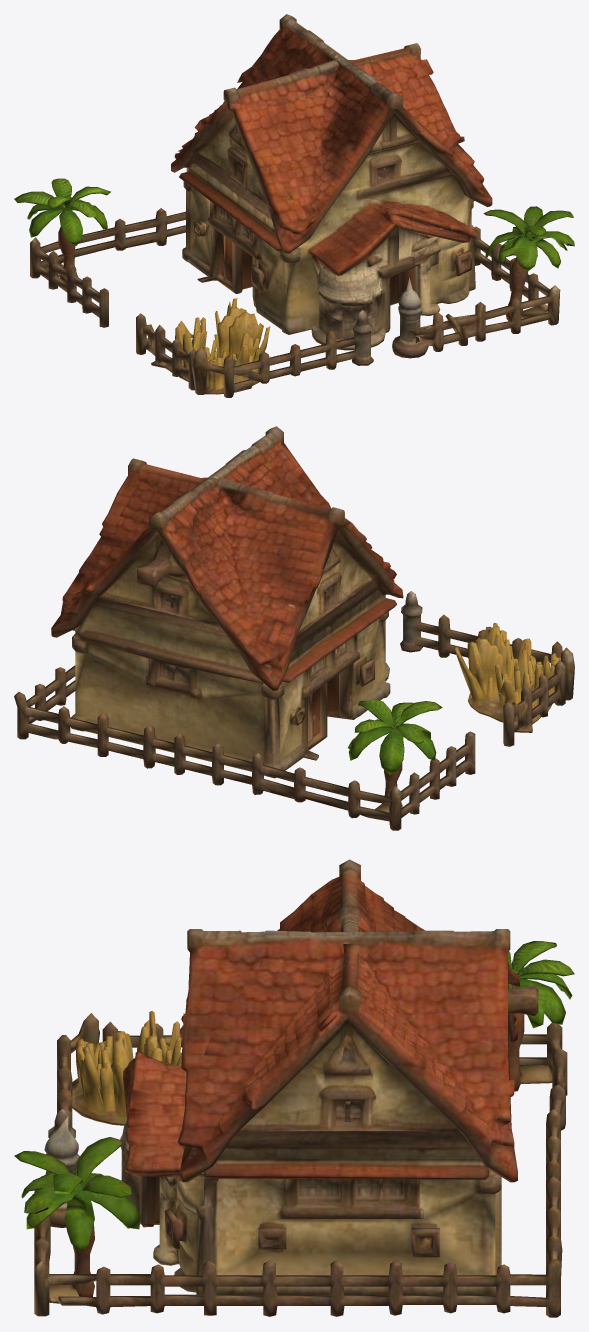
Rendered from granja_tripo_2.glb.
3 renders of one model, top to bottom at view 1: azimuth 30°, elevation 25°; view 2: azimuth 150°, elevation 25°; view 3: azimuth 270°, elevation 25°, orthographic. The views are drawn at different scales.
Parts seen in each view (by area): view 1: tripo_node_a6f60d0a-1b36-43b1-b33c-19b7cf65d22f; view 2: tripo_node_a6f60d0a-1b36-43b1-b33c-19b7cf65d22f; view 3: tripo_node_a6f60d0a-1b36-43b1-b33c-19b7cf65d22f.
Part boxes in pixels (bbox=[...]): tripo_node_a6f60d0a-1b36-43b1-b33c-19b7cf65d22f: bbox=[14, 14, 574, 397]; tripo_node_a6f60d0a-1b36-43b1-b33c-19b7cf65d22f: bbox=[14, 426, 574, 830]; tripo_node_a6f60d0a-1b36-43b1-b33c-19b7cf65d22f: bbox=[14, 859, 574, 1317].
Size of the model in its own units: 0.98 by 0.5274 by 0.8496.
Materials: 1 (1 with a texture image).
